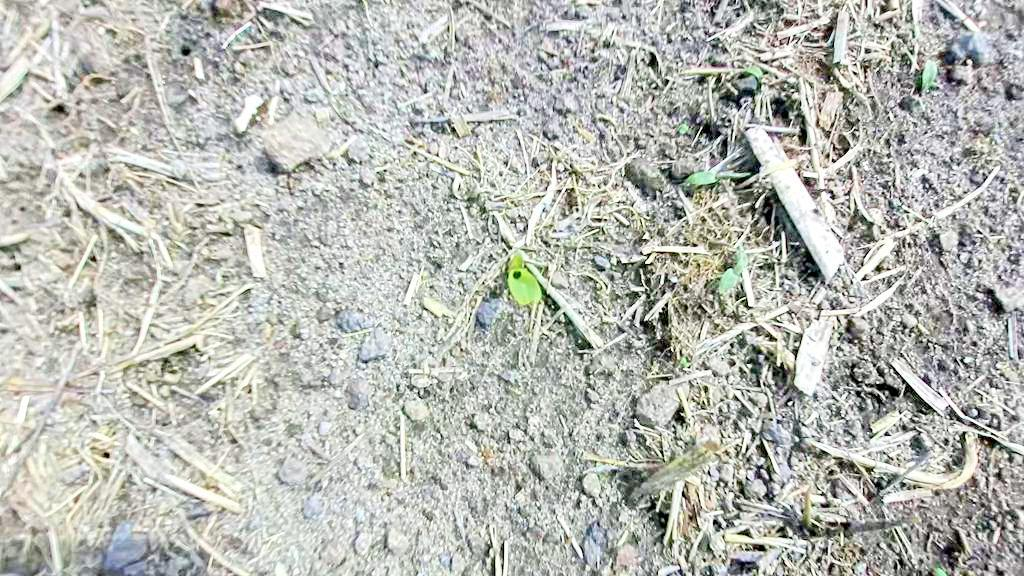BroWeed: (714, 242, 754, 299), (684, 163, 751, 188), (919, 58, 940, 95), (801, 483, 814, 532), (741, 61, 766, 83), (571, 121, 596, 143), (576, 154, 595, 171), (677, 355, 693, 371), (854, 558, 867, 576), (675, 122, 689, 136), (932, 568, 946, 576)
Maize: (496, 246, 545, 311)
